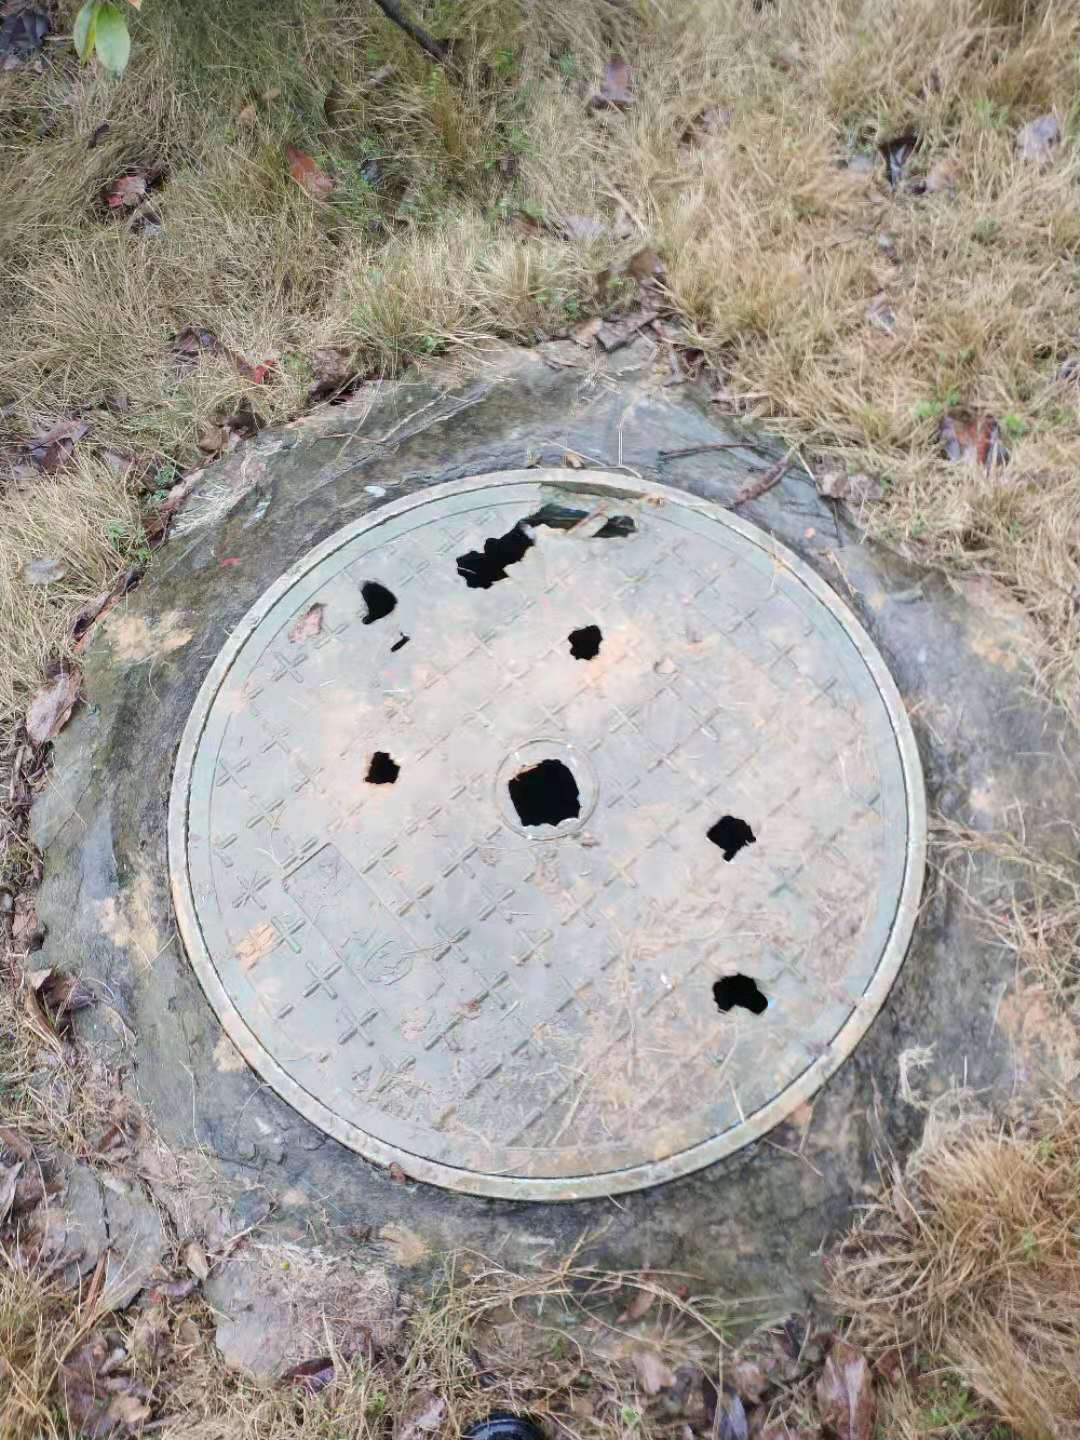broke: (168, 466, 927, 1203)
